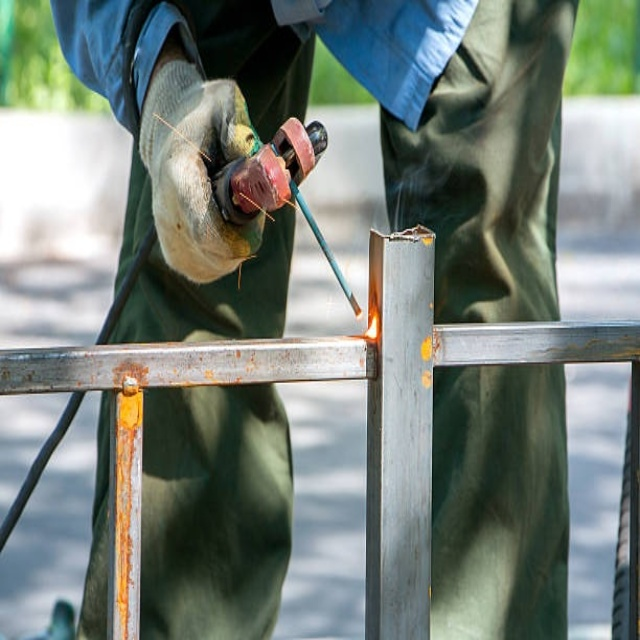Guantes: (140, 47, 269, 281)
